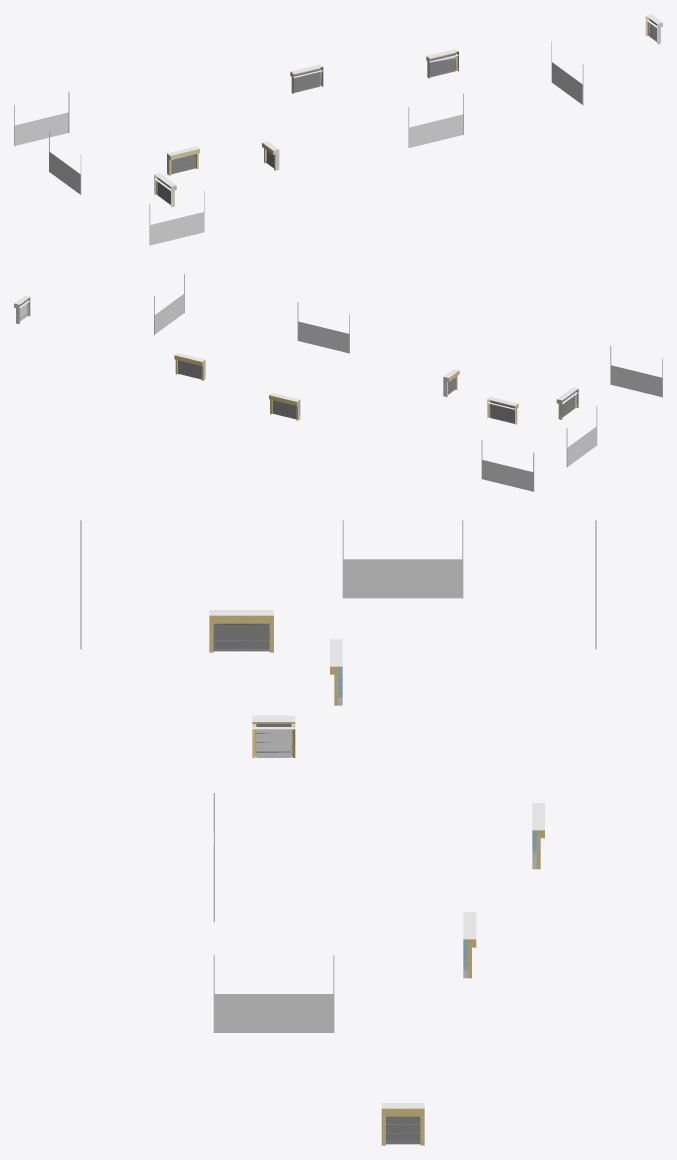
File: s_steel_factory_doors.dae
3 views of the same model, one above another, from view 1: azimuth 30°, elevation 25°; view 2: azimuth 150°, elevation 25°; view 3: azimuth 270°, elevation 25° (orthographic). The views are drawn at different scales.
Visible parts, largest first — view 1: Colmesh_s_factory_doors-1, s_factory_doors_a2000, s_factory_doors_a500, s_factory_doors_a1500; view 2: s_factory_doors_a1500, Colmesh_s_factory_doors-1, s_factory_doors_a500, s_factory_doors_a2000; view 3: s_factory_doors_a2000, Colmesh_s_factory_doors-1, s_factory_doors_a500, s_factory_doors_a1500.
Boxes of the visible parts, x1,y1,x2,y2 form: Colmesh_s_factory_doors-1: (49, 14, 662, 245); s_factory_doors_a2000: (14, 15, 662, 245); s_factory_doors_a500: (155, 15, 660, 203); s_factory_doors_a1500: (14, 14, 662, 245); s_factory_doors_a1500: (15, 274, 662, 491); Colmesh_s_factory_doors-1: (14, 296, 597, 491); s_factory_doors_a500: (15, 294, 661, 423); s_factory_doors_a2000: (14, 275, 662, 491); s_factory_doors_a2000: (80, 520, 596, 1145); Colmesh_s_factory_doors-1: (80, 583, 595, 1144); s_factory_doors_a500: (209, 559, 544, 1144); s_factory_doors_a1500: (80, 521, 596, 1145).
Size of the model in its own units: 302 by 120 by 20.
